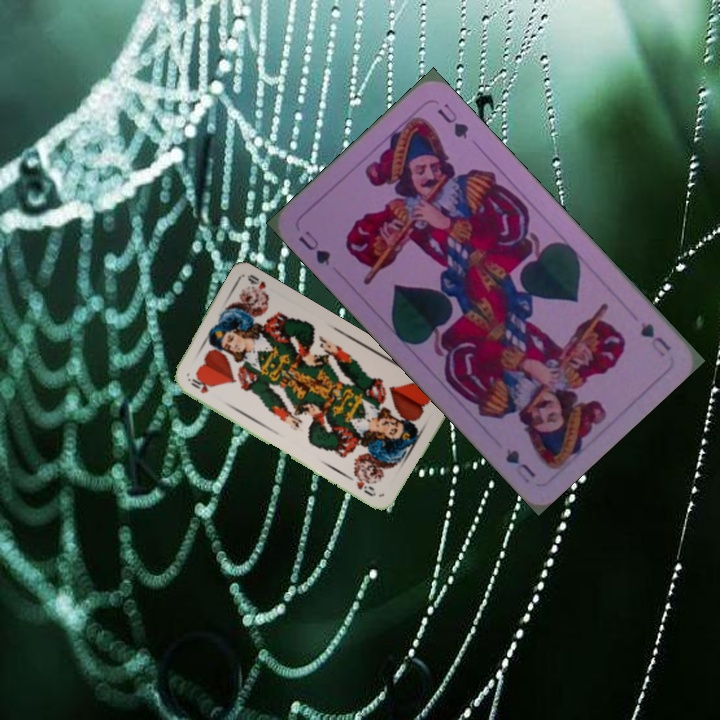GU: (294, 226, 334, 269), (636, 318, 674, 360)
HO: (183, 374, 211, 396)
